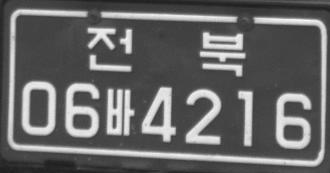0: (20, 78, 56, 135)
1: (231, 90, 264, 146)
2: (185, 88, 221, 145)
4: (140, 86, 176, 142)
6: (275, 91, 312, 150), (65, 82, 100, 137)
바: (105, 88, 134, 135)
전북_D: (87, 26, 246, 78)
